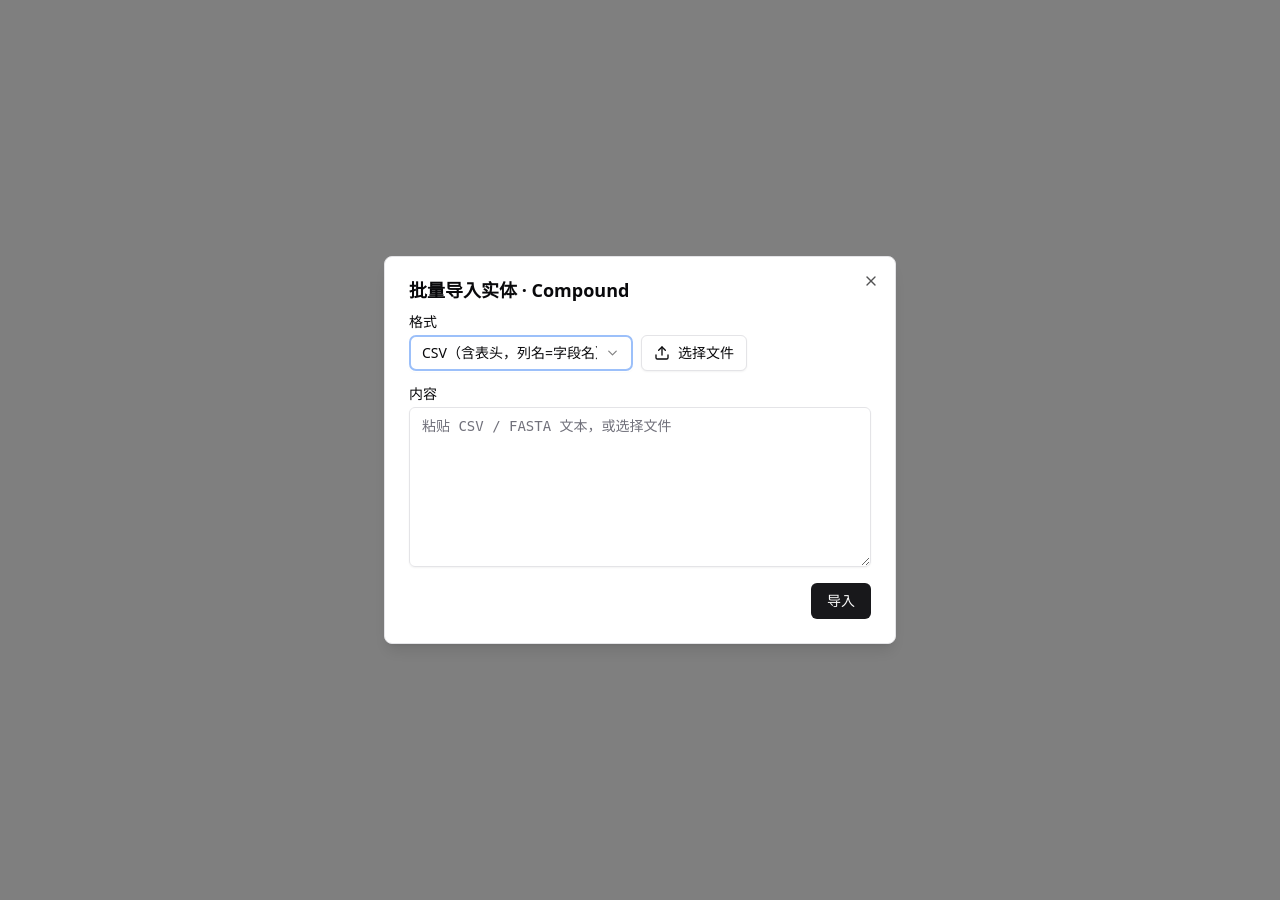
ImportEntitiesDialog › warns when importing empty content
Click the button "导入" at (841, 601), box [811,583,871,619]
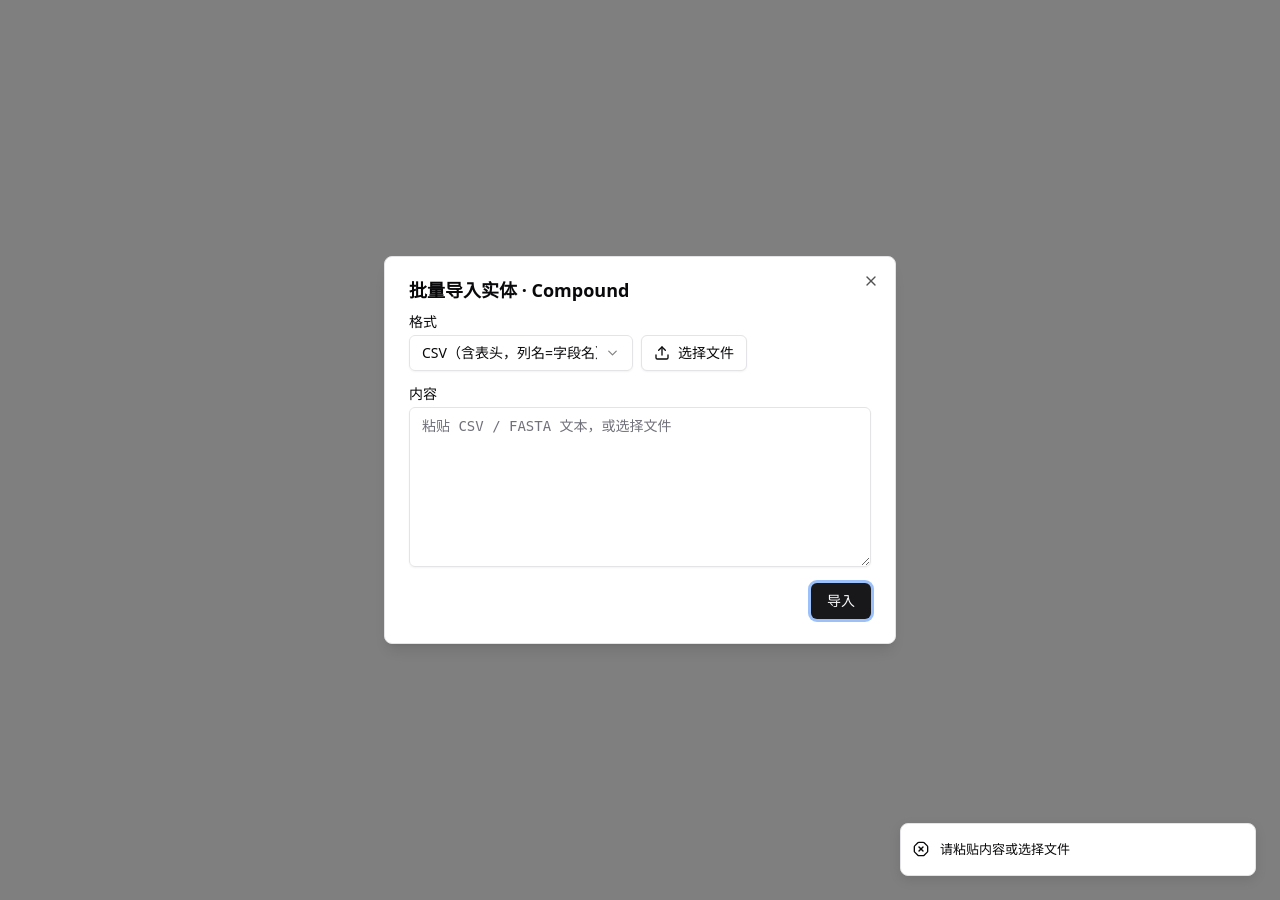
Expected: the text "请粘贴内容或选择文件" is shown, [940,840,1070,859]
